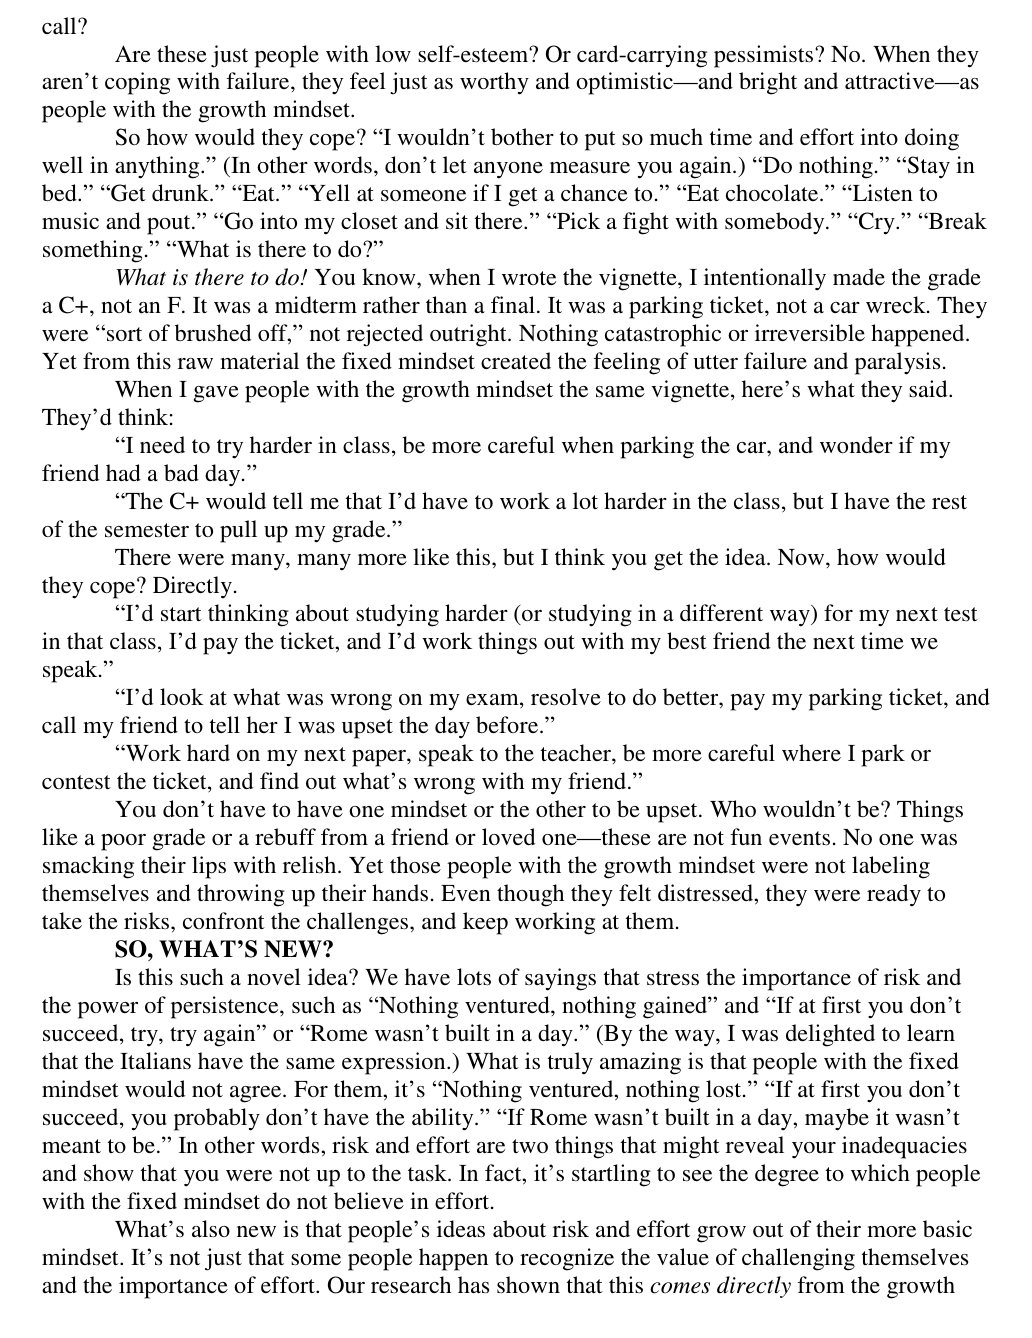latin: (38, 377, 993, 796), (38, 963, 982, 1210), (36, 127, 994, 263), (38, 796, 964, 932), (37, 263, 988, 375), (39, 1217, 973, 1292), (37, 47, 984, 120), (113, 937, 334, 962), (38, 14, 87, 42)
